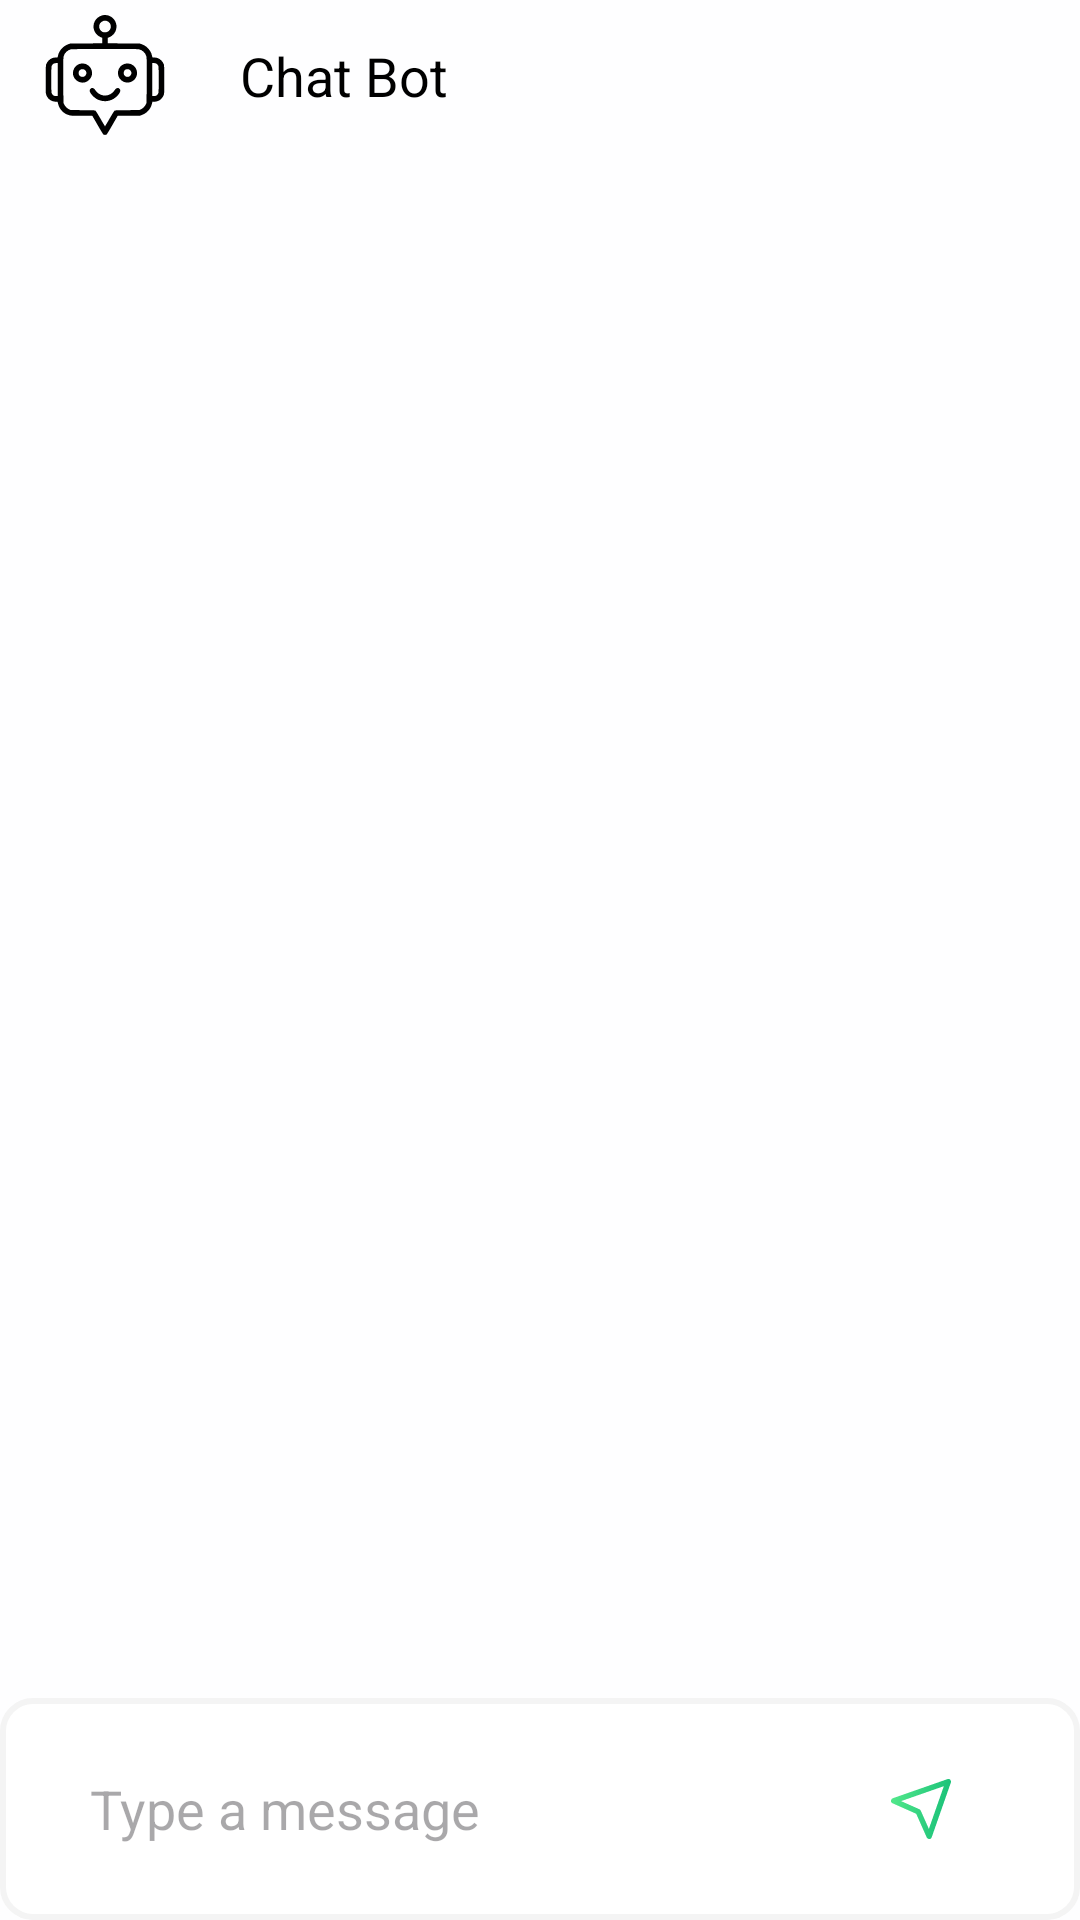

Icons on this 1080w x 1920h Android screen, each with the point to tap as point (x, y):
send: point (921, 1809)
